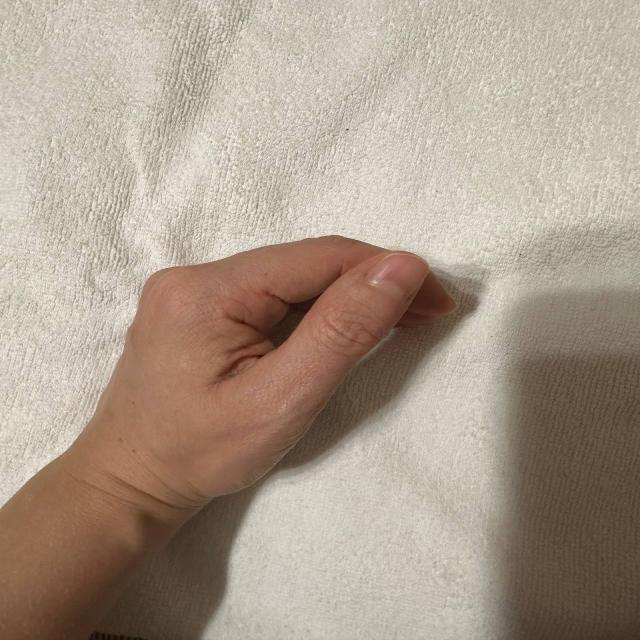f: (98, 223, 458, 485)
